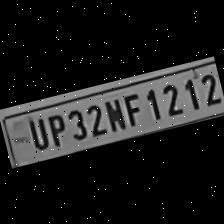1: (176, 74, 202, 114), (138, 85, 164, 124)
2: (155, 78, 186, 119), (194, 68, 223, 108), (80, 98, 108, 138)
3: (60, 104, 86, 142)
F: (118, 90, 144, 130)
N: (100, 94, 127, 134)
P: (42, 109, 69, 149)
U: (21, 114, 49, 153)
